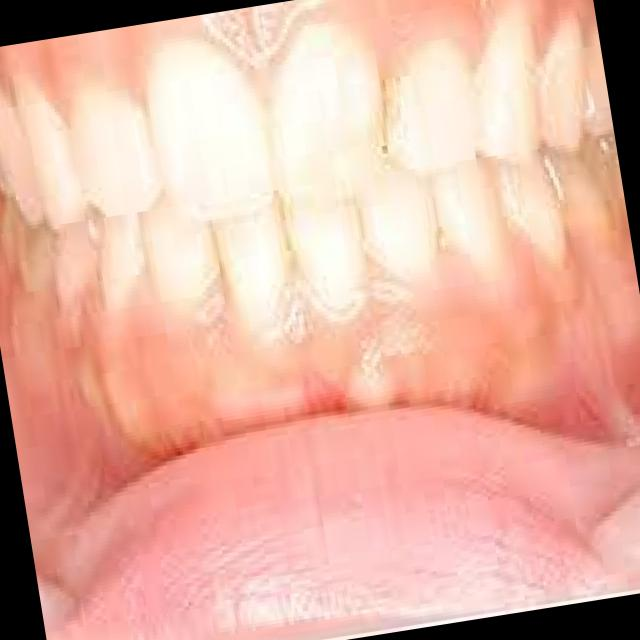Tooth: (146, 38, 275, 220), (266, 25, 383, 207), (386, 38, 479, 179), (69, 89, 164, 217), (471, 0, 546, 162), (427, 154, 511, 292), (16, 79, 91, 230), (481, 148, 571, 267), (213, 183, 285, 324), (357, 164, 445, 278), (145, 184, 221, 312), (282, 197, 366, 306), (548, 133, 626, 249), (541, 15, 591, 154), (0, 94, 46, 229), (53, 215, 99, 328), (93, 207, 143, 310), (20, 211, 59, 289)
